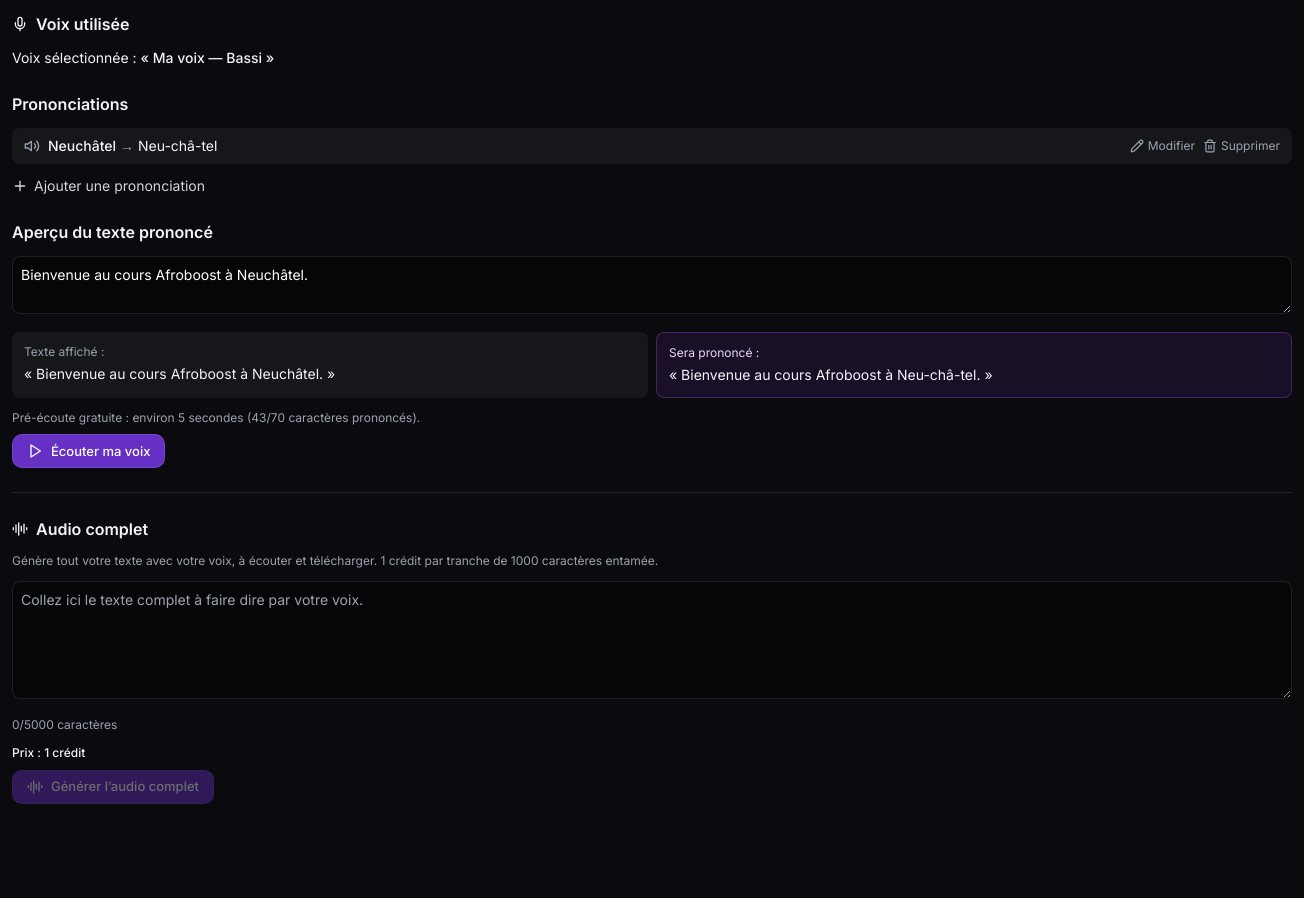
Test: MaVoixPanel — coût de « Suggérer » › (3) ouvrir le formulaire (ajout ou modification) : aucun appel
This screenshot has width=1304, height=898.
Click the button "Ajouter une prononciation".
click(108, 186)  # box [12,176,205,196]
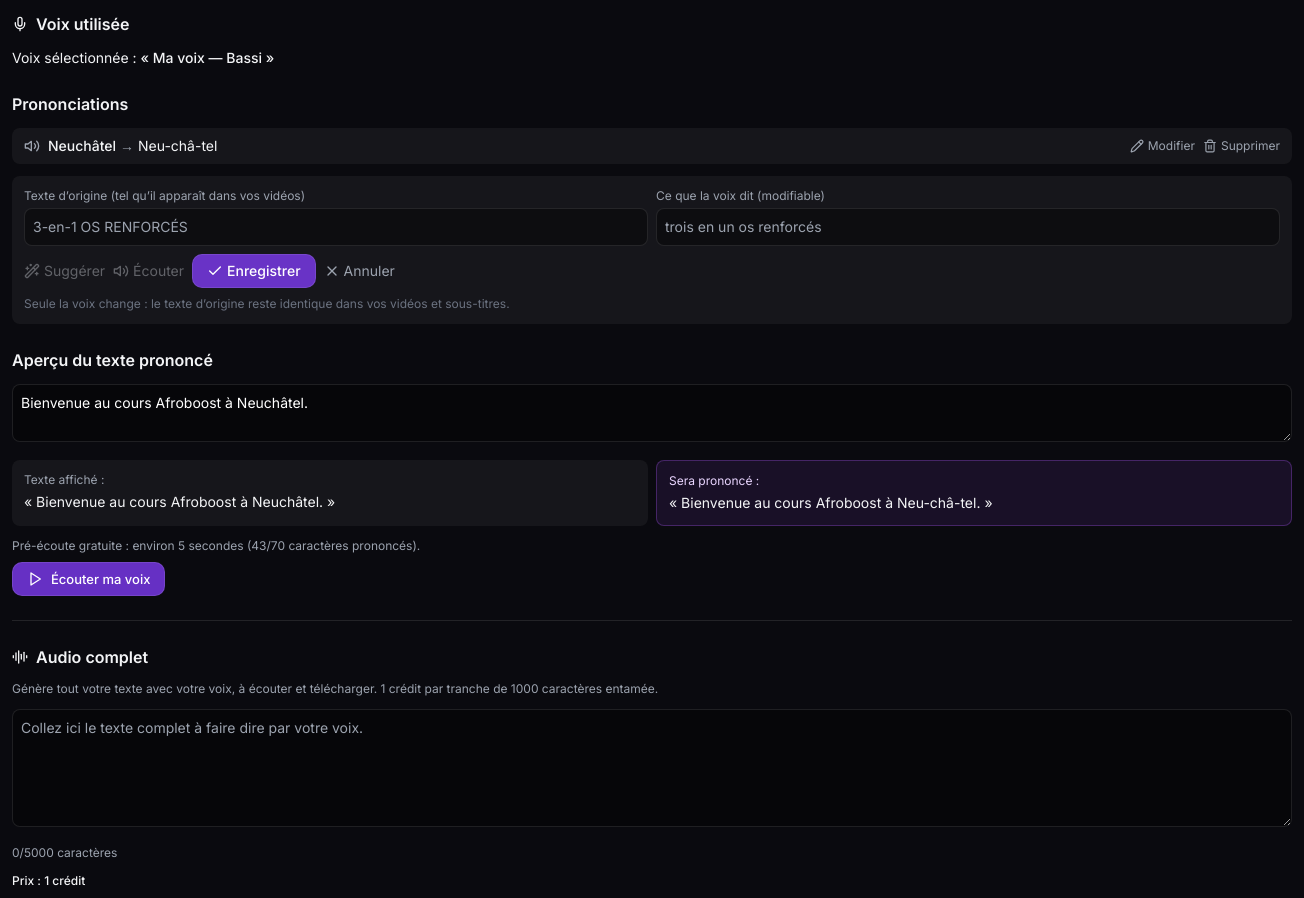
Now the field labelled "Texte d’origine (tel qu’il apparaît dans vos vidéos)" is shown, box [24,208,648,246]
Click the button "Annuler".
click(359, 271)  # box [324,254,395,288]
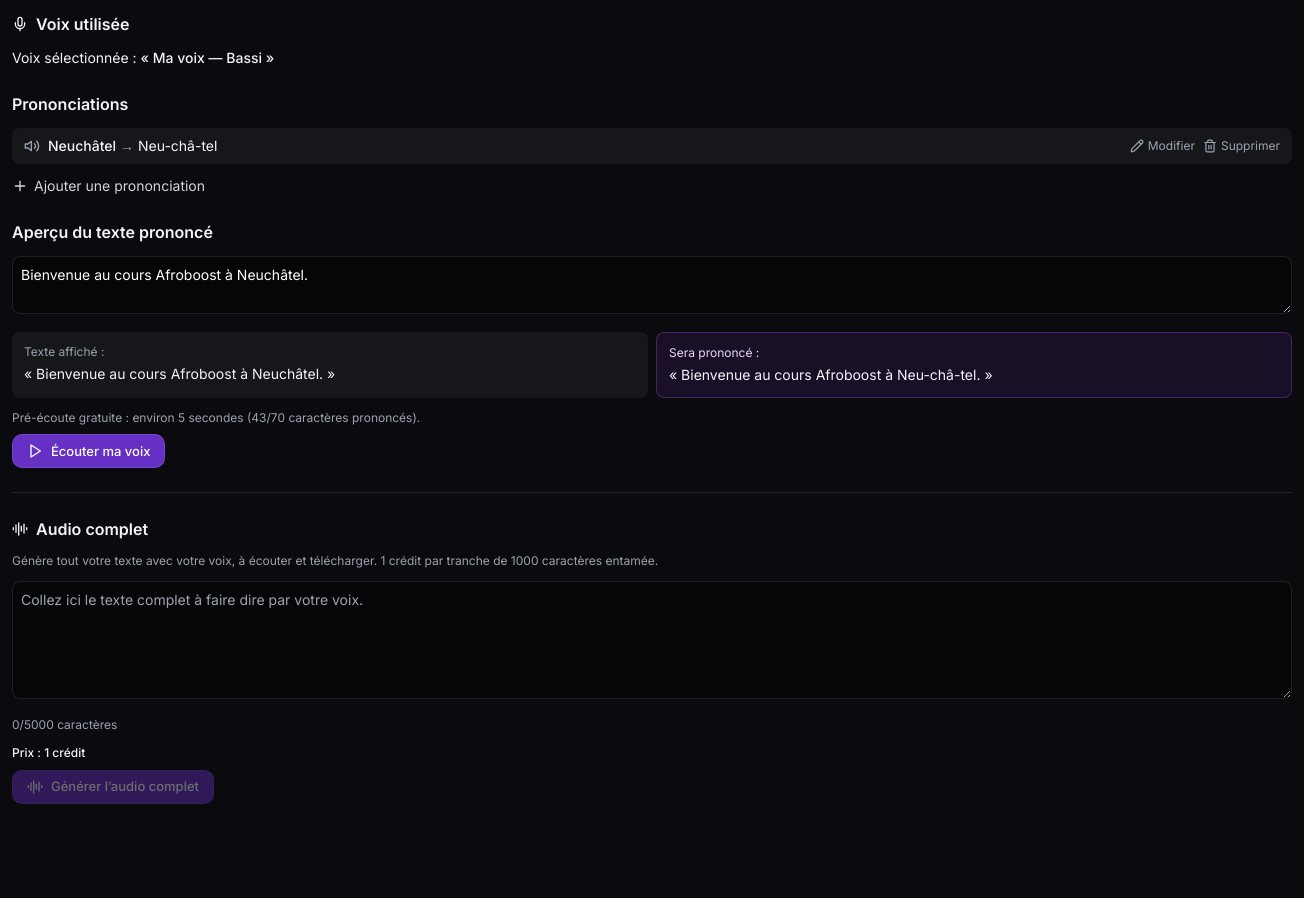
Click the button "Modifier".
click(1162, 146)  # box [1130,138,1195,154]
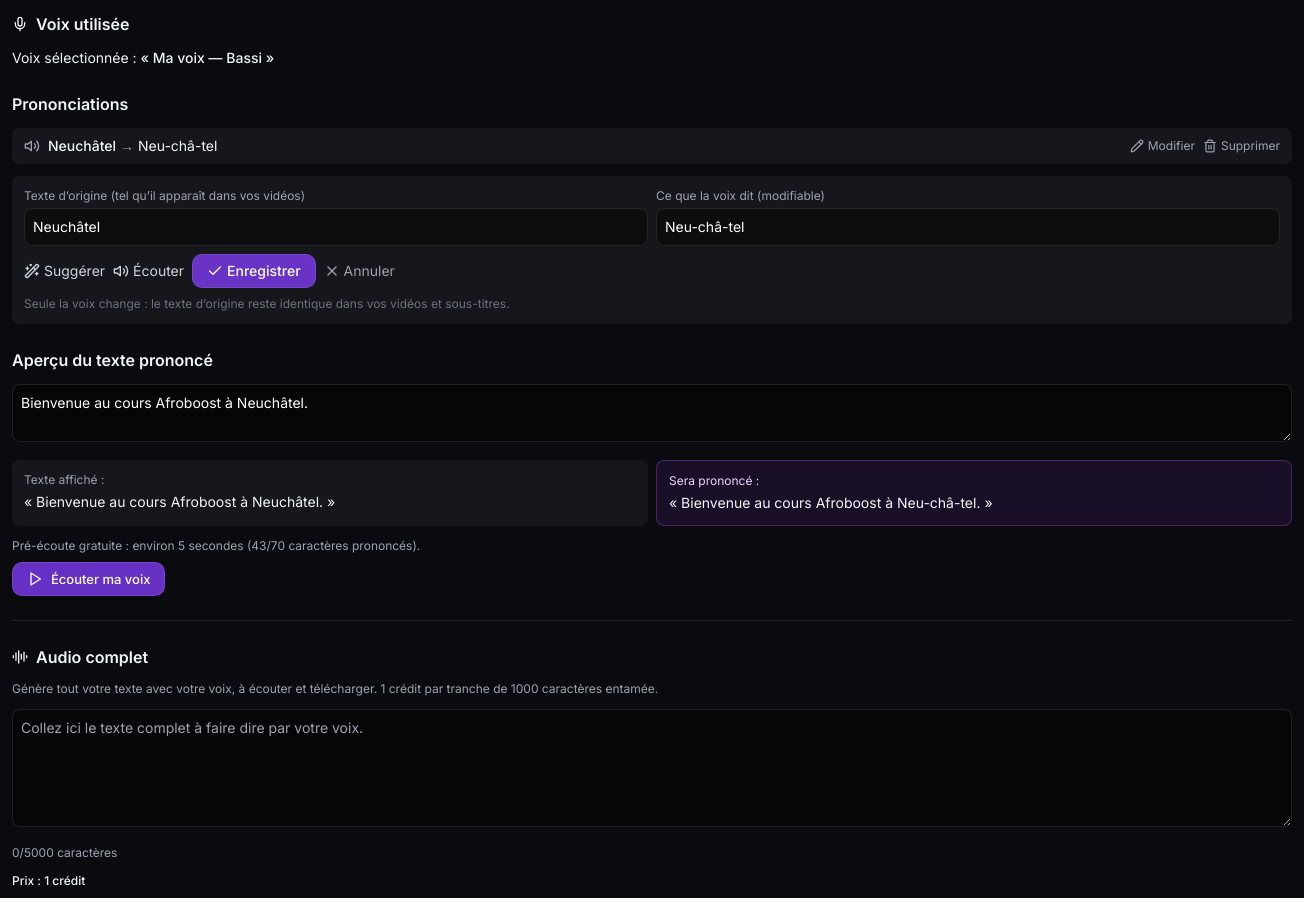
Now the field labelled "Texte d’origine (tel qu’il apparaît dans vos vidéos)" holds "Neuchâtel", box [24,208,648,246]
